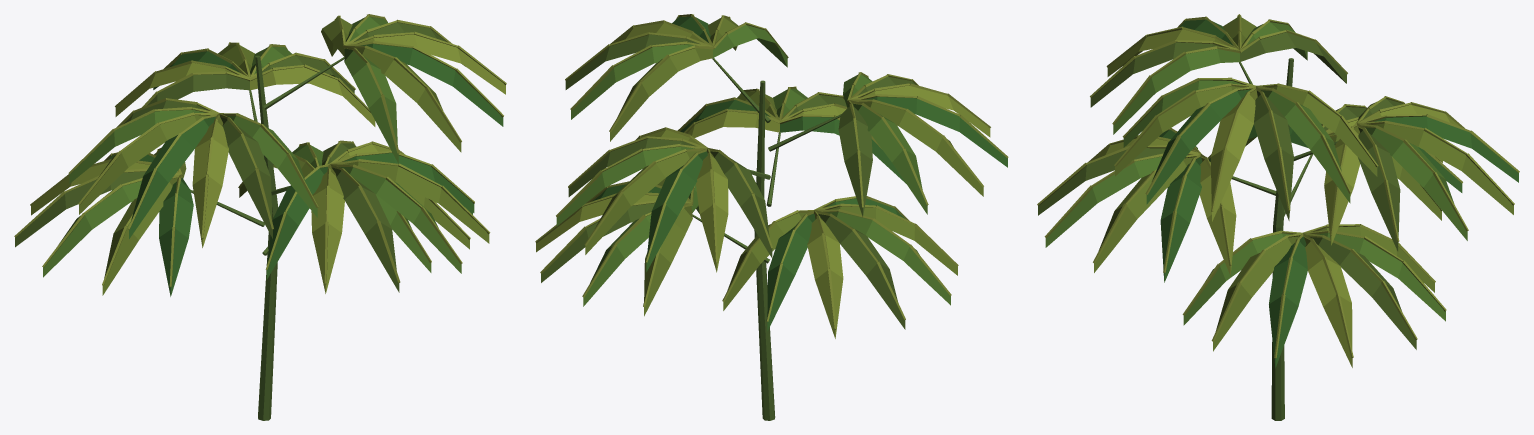
The model's file is mandioca_jovem.glb.
3 views of the same model, side by side, from view 1: azimuth 30°, elevation 25°; view 2: azimuth 150°, elevation 25°; view 3: azimuth 270°, elevation 25° (orthographic). The views are drawn at different scales.
Parts seen in each view (by area): view 1: mandioca_jovem.006; view 2: mandioca_jovem.006; view 3: mandioca_jovem.006.
Boxes of the visible parts, box(x1,y1,x2,y2) form: mandioca_jovem.006: box(14, 14, 506, 420); mandioca_jovem.006: box(535, 14, 1008, 420); mandioca_jovem.006: box(1037, 14, 1519, 420).
Bounding box in the file's own units: 0.7359 × 0.6275 × 0.7352.
